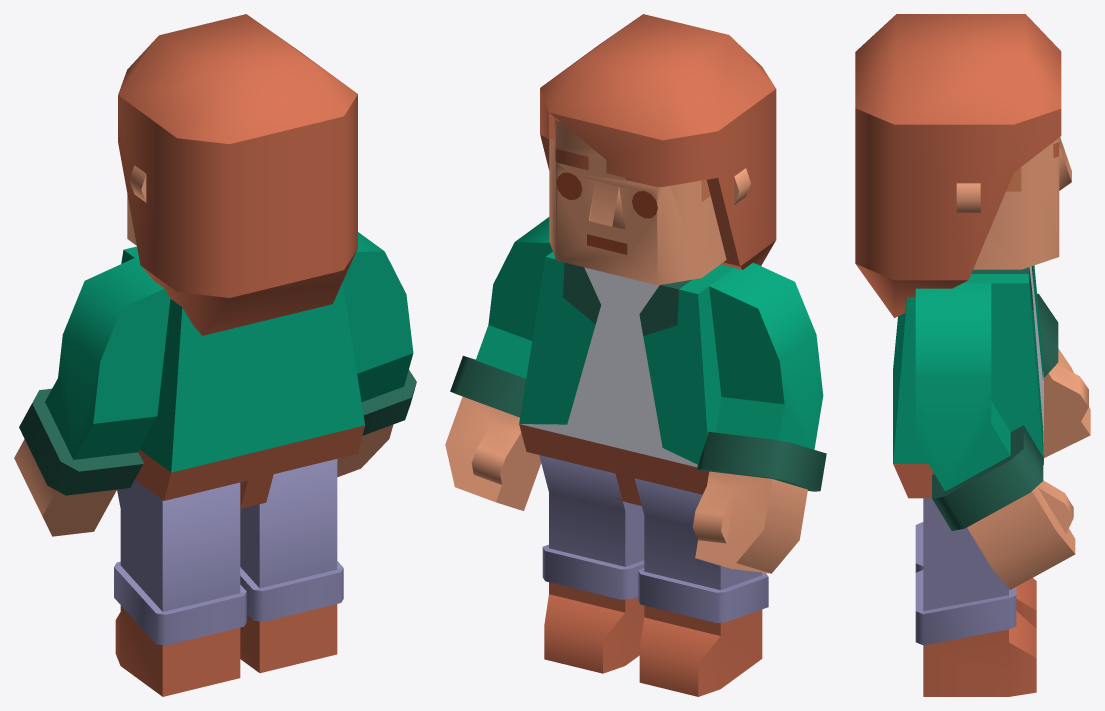
Rendered from men.glb.
The picture shows the model from 3 angles, left to right: view 1: azimuth 30°, elevation 25°; view 2: azimuth 150°, elevation 25°; view 3: azimuth 270°, elevation 25°; orthographic projection. The views are drawn at different scales.
Parts seen in each view (by area): view 1: mergedBlocks(Clone); view 2: mergedBlocks(Clone); view 3: mergedBlocks(Clone).
Part boxes in pixels (x1=…): mergedBlocks(Clone): x1=14, y1=14, x2=416, y2=696; mergedBlocks(Clone): x1=445, y1=14, x2=826, y2=696; mergedBlocks(Clone): x1=855, y1=14, x2=1090, y2=696.
Bounding box in the file's own units: 0.5504 × 0.9064 × 0.3116.
